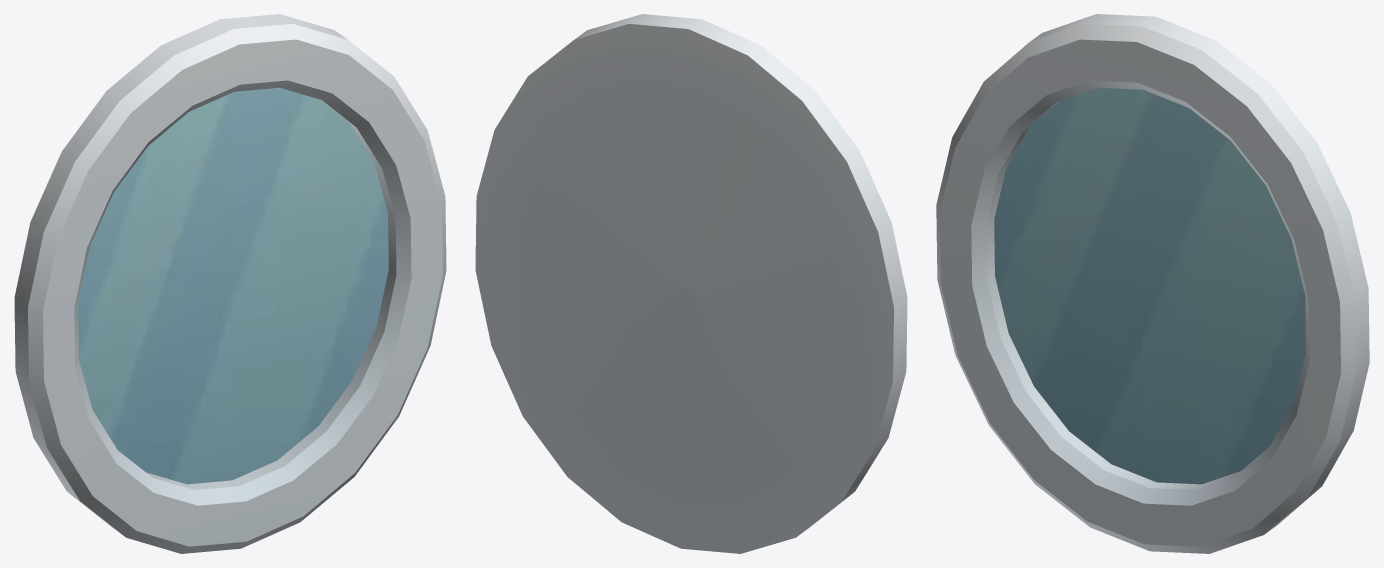
The model's file is mirror.glb.
The picture shows the model from 3 angles, left to right: view 1: azimuth 30°, elevation 25°; view 2: azimuth 150°, elevation 25°; view 3: azimuth 330°, elevation 25°; orthographic projection.
Parts seen in each view (by area): view 1: mirror; view 2: mirror; view 3: mirror.
Part boxes in pixels (x1,y1,x2,y2): mirror: [14, 14, 446, 553]; mirror: [475, 14, 907, 553]; mirror: [936, 14, 1369, 553].
Bounding box in the file's own units: 1.26 × 1.5 × 0.1.
1 material, 1 textured.
